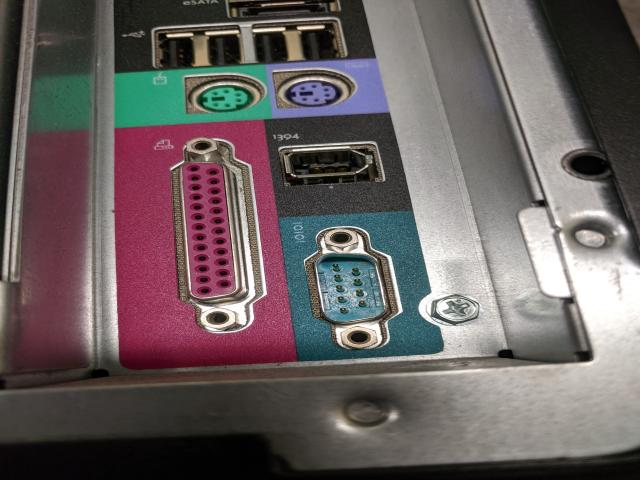CRS: (429, 292, 485, 325)
